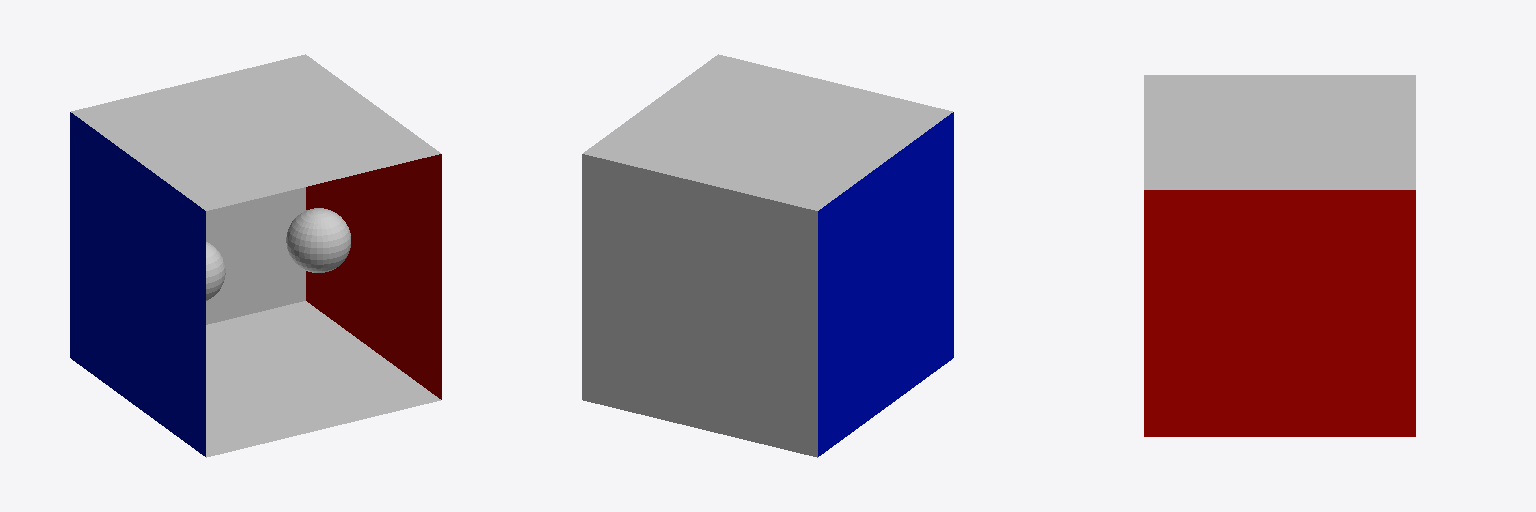
Rendered from spheres.obj.
3 views of the same model, side by side, from view 1: azimuth 30°, elevation 25°; view 2: azimuth 150°, elevation 25°; view 3: azimuth 270°, elevation 25° (orthographic).
Visible parts, largest first — view 1: Plane.004, Plane.001, Plane, Plane.005, Plane.003, Sphere, Sphere.001; view 2: Plane.003, Plane.004, Plane.001; view 3: Plane.005, Plane.001.
Boxes of the visible parts, x1=… form: Plane.004: x1=70, y1=112, x2=205, y2=456; Plane.001: x1=71, y1=54, x2=440, y2=210; Plane: x1=206, y1=301, x2=440, y2=457; Plane.005: x1=306, y1=154, x2=441, y2=399; Plane.003: x1=206, y1=187, x2=305, y2=324; Sphere: x1=286, y1=208, x2=350, y2=272; Sphere.001: x1=206, y1=242, x2=225, y2=300; Plane.003: x1=582, y1=154, x2=817, y2=457; Plane.004: x1=818, y1=112, x2=953, y2=456; Plane.001: x1=583, y1=54, x2=952, y2=210; Plane.005: x1=1144, y1=190, x2=1415, y2=436; Plane.001: x1=1144, y1=75, x2=1415, y2=189.
Size of the model in its own units: 30 by 30 by 30.